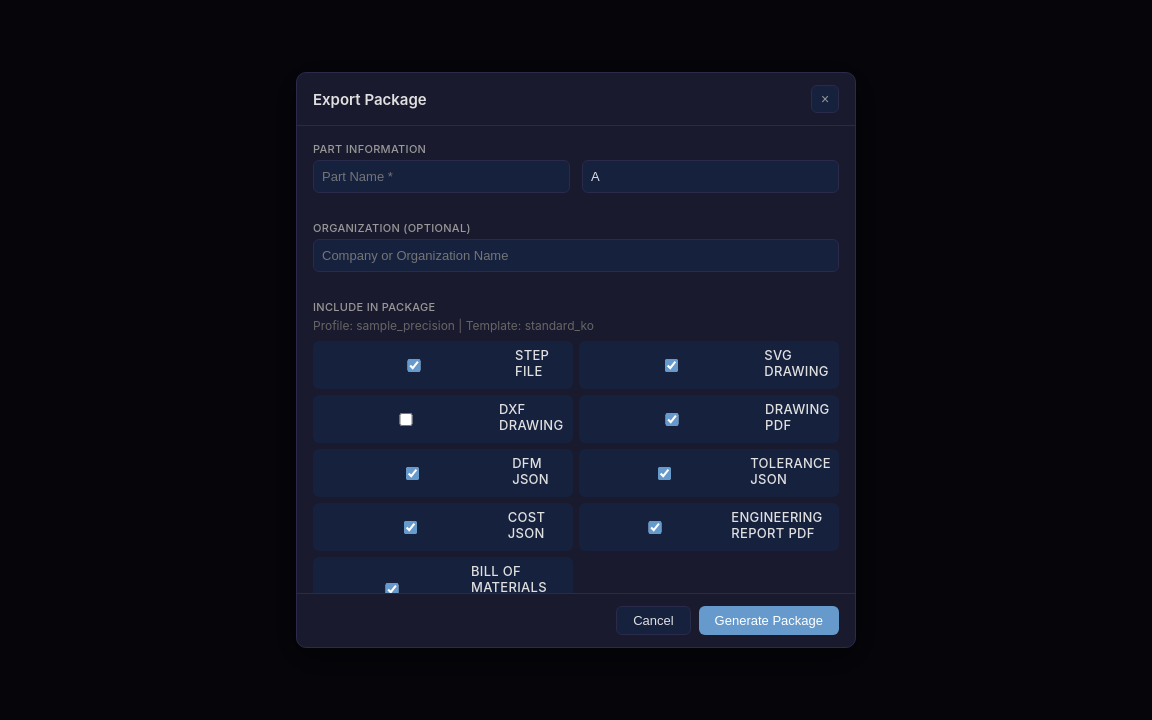
it: ExportPackModal › shows export summary with filename, output count, and selected output labels
This screenshot has width=1152, height=720.
Click the checkbox labelled "DXF Drawing" at [406, 419], box [321,412,491,426]
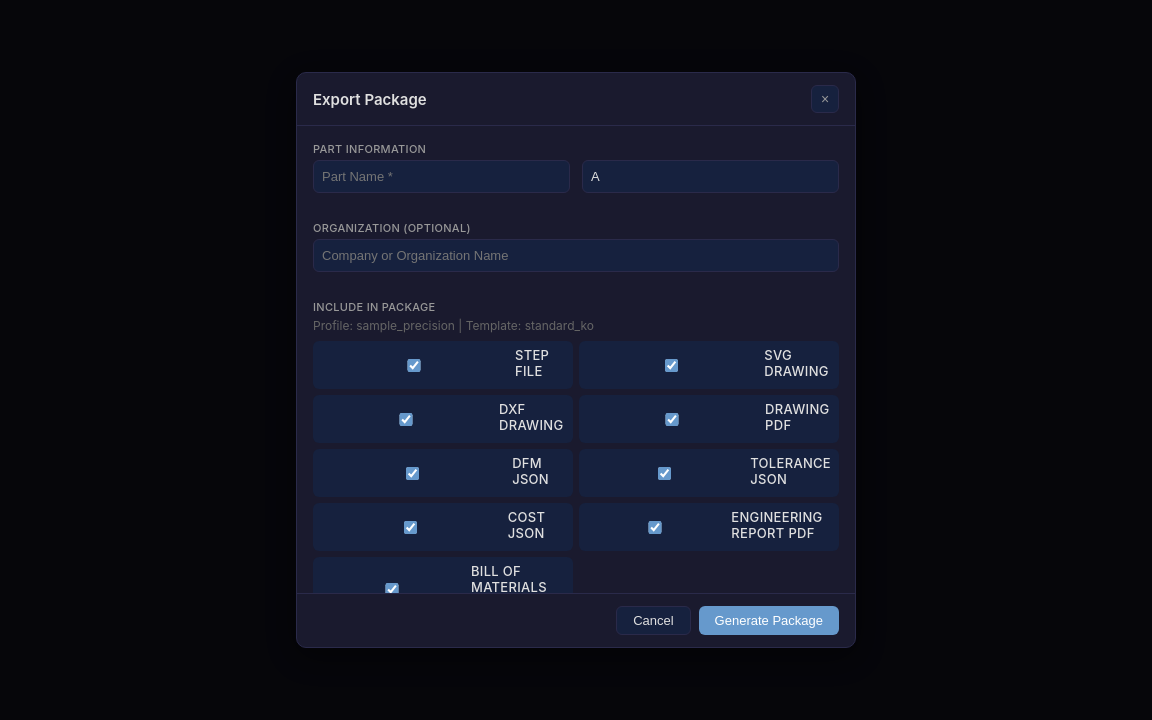
Click the button "Generate Package" at [769, 620], box [699,606,839,635]
(page scrolled)
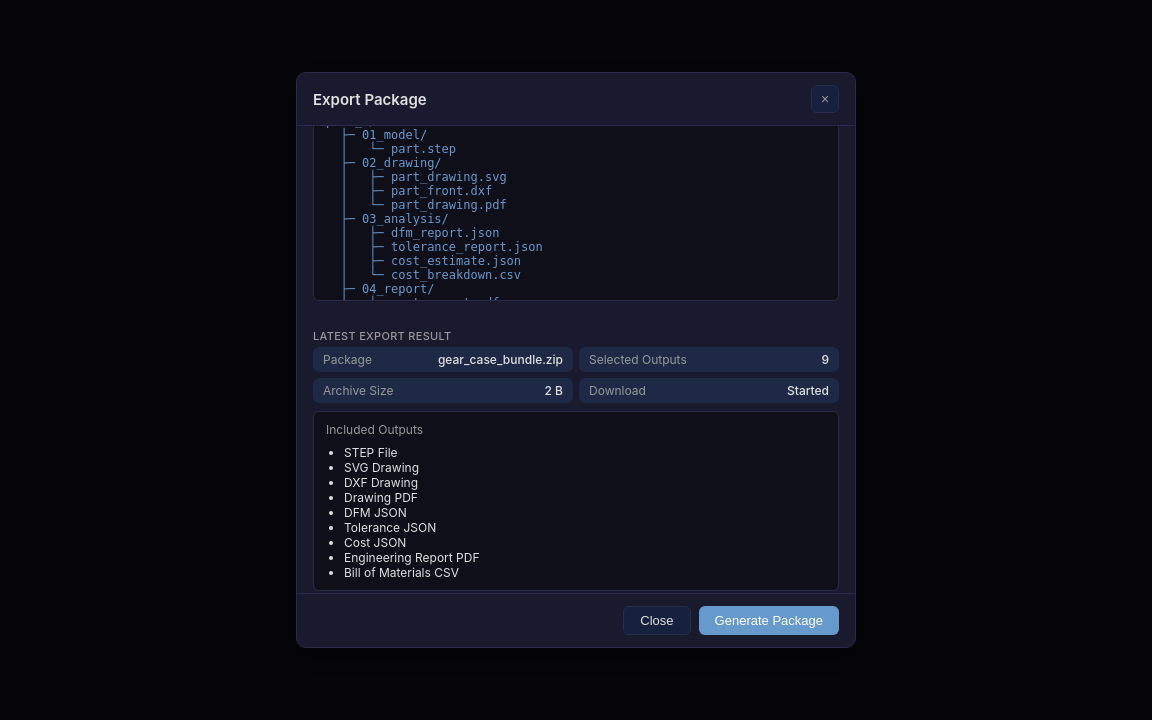
Now the text "Latest Export Result" is shown, box [313,329,452,343]
Now the text "gear_case_bundle.zip" is shown, box [438,352,563,367]
Now the text "Included Outputs" is shown, box [326,422,423,437]
